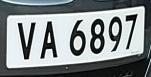6: (68, 14, 89, 63)
7: (124, 9, 141, 55)
8: (88, 13, 108, 60)
9: (107, 11, 125, 57)
A: (38, 15, 60, 65)
V: (15, 19, 36, 63)
